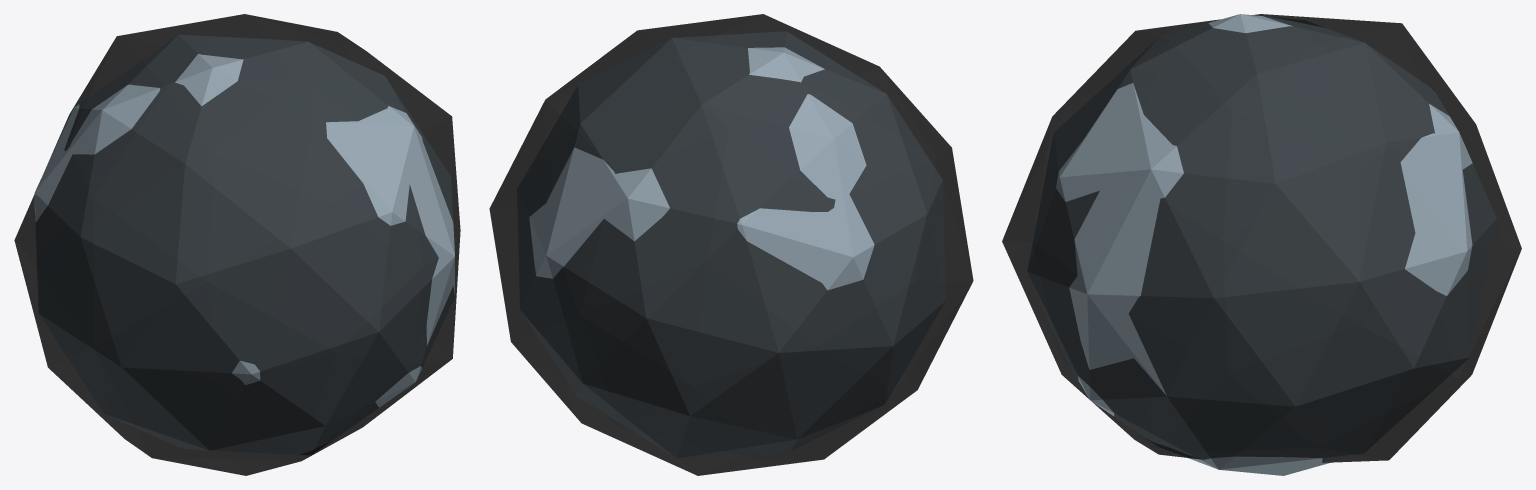
The model's file is wandering_planet9.fbx.
The picture shows the model from 3 angles, left to right: view 1: azimuth 30°, elevation 25°; view 2: azimuth 150°, elevation 25°; view 3: azimuth 270°, elevation 25°; orthographic projection. The views are drawn at different scales.
Visible parts, largest first — view 1: wandering_planet9; view 2: wandering_planet9; view 3: wandering_planet9.
Boxes of the visible parts, x1,y1,x2,y2 form: wandering_planet9: (14, 14, 460, 475); wandering_planet9: (489, 14, 973, 475); wandering_planet9: (1002, 14, 1521, 475).
Size of the model in its own units: 208 by 203 by 219.
